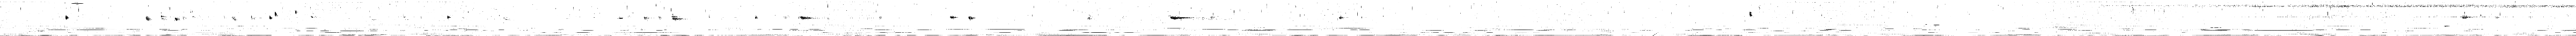meteor: (1170, 15, 1193, 20), (672, 13, 683, 21), (159, 11, 168, 20), (800, 15, 813, 20), (146, 15, 151, 21), (968, 16, 977, 20), (274, 11, 279, 16), (232, 16, 237, 21), (644, 16, 651, 20), (66, 15, 69, 20), (269, 15, 273, 20), (950, 16, 958, 18)
